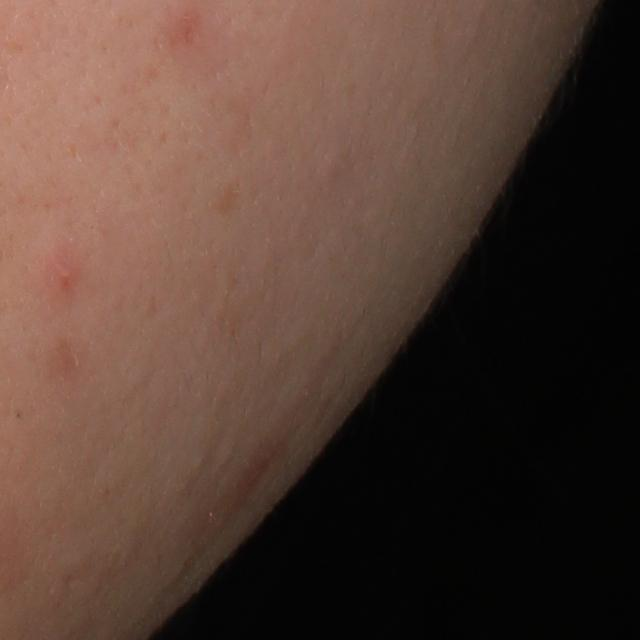papule: (51, 263, 77, 290)
